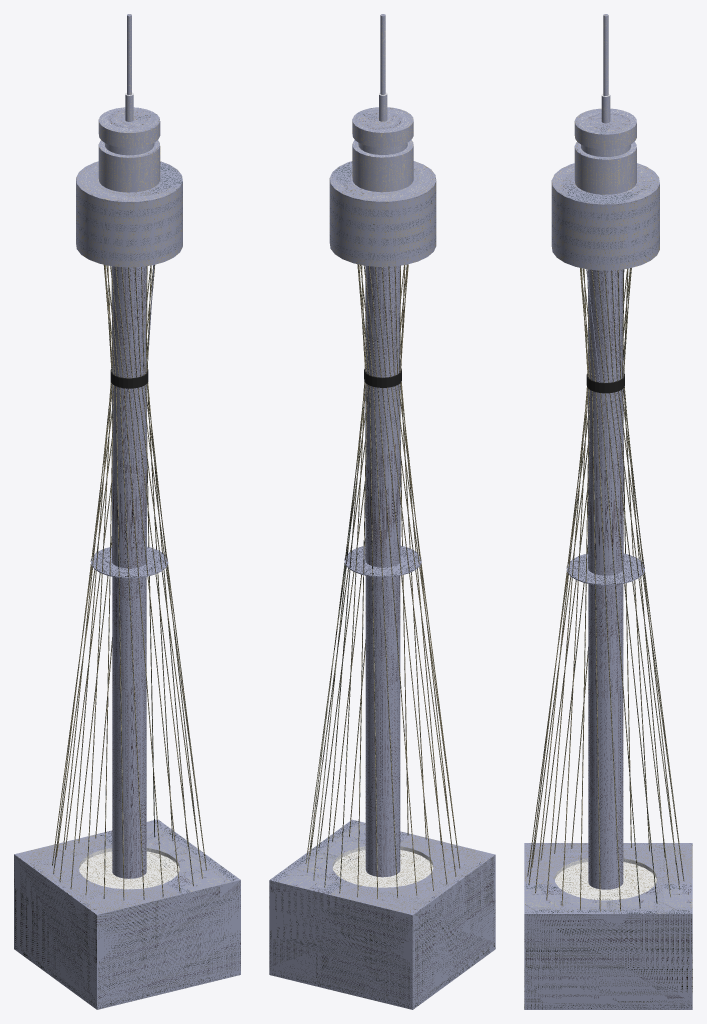
The model's file is SydneyTower.fbx.
3 views of the same model, side by side, from view 1: azimuth 30°, elevation 25°; view 2: azimuth 150°, elevation 25°; view 3: azimuth 270°, elevation 25° (orthographic).
Visible parts, largest first — view 1: Model; view 2: Model; view 3: Model.
Part boxes in pixels (bbox=[...]): Model: bbox=[14, 14, 240, 1009]; Model: bbox=[269, 14, 495, 1009]; Model: bbox=[524, 14, 692, 1009].
Size of the model in its own units: 49.11 by 309 by 49.11.
